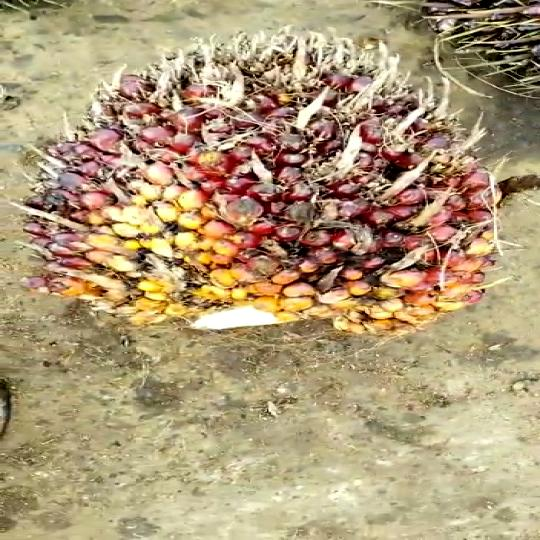masak: (25, 34, 499, 338)
